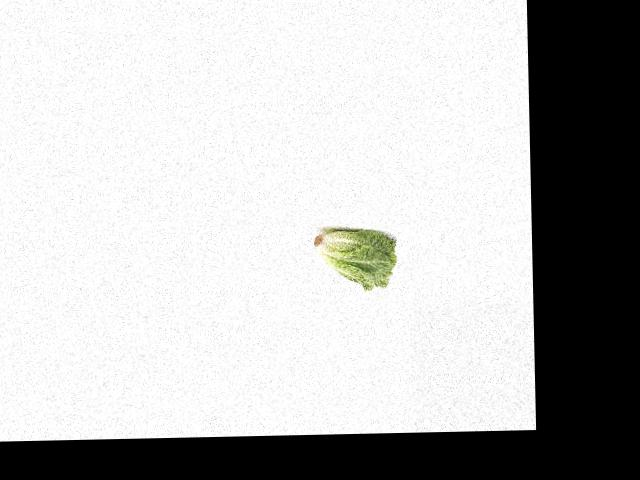lettuce: (309, 226, 397, 292)
